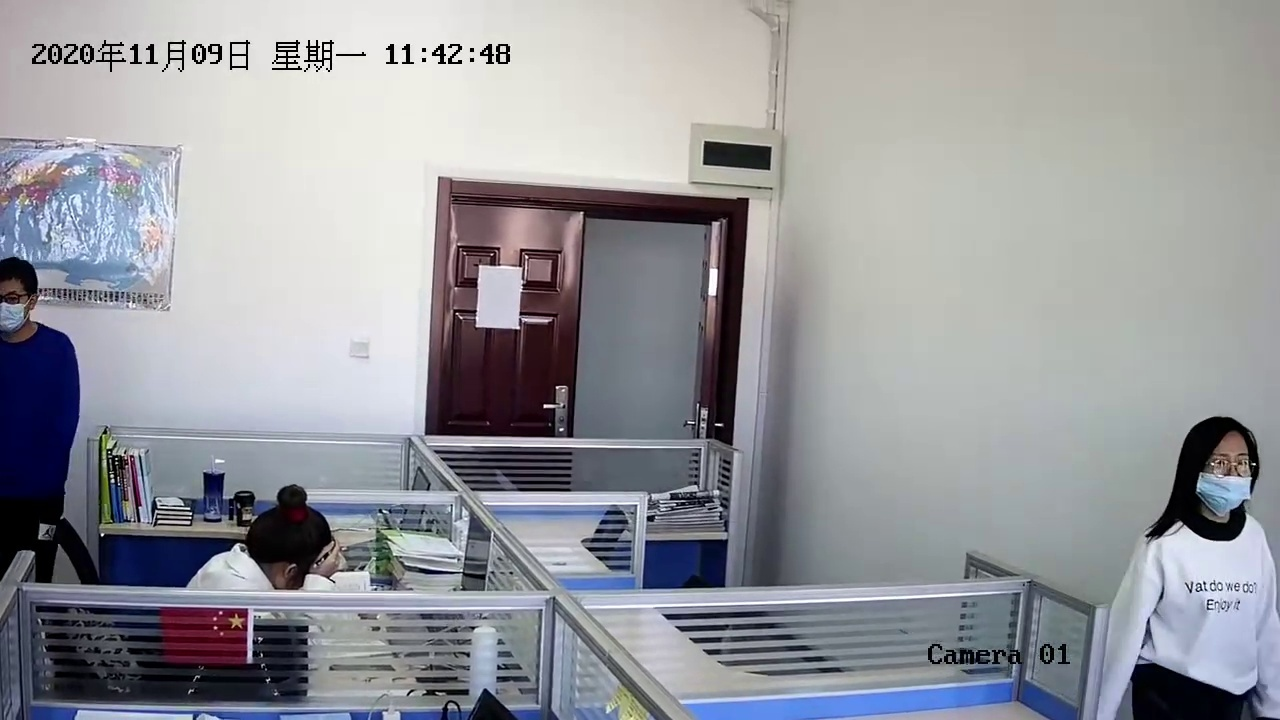mask: (1182, 420, 1262, 519), (0, 265, 32, 335)
